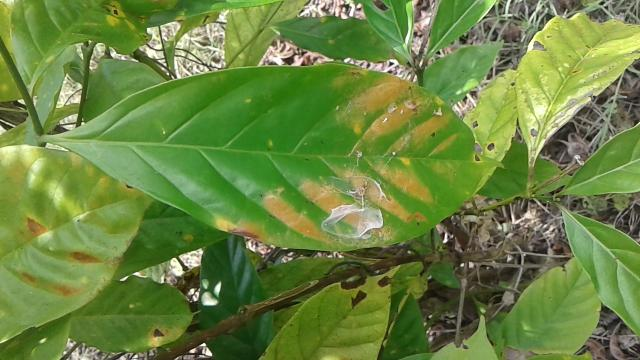red_spider_mite: (50, 57, 512, 250)
